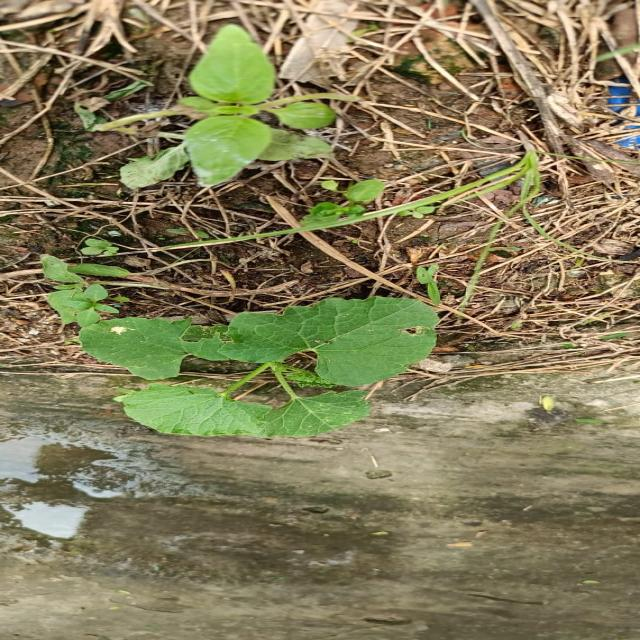plant: (40, 256, 438, 438), (99, 24, 358, 187), (388, 154, 535, 211), (285, 181, 382, 232)
